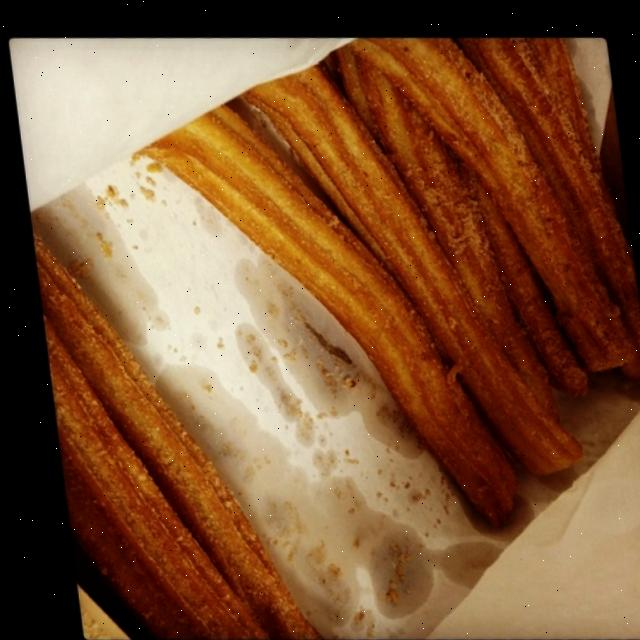炸货点心: (22, 20, 640, 607)
